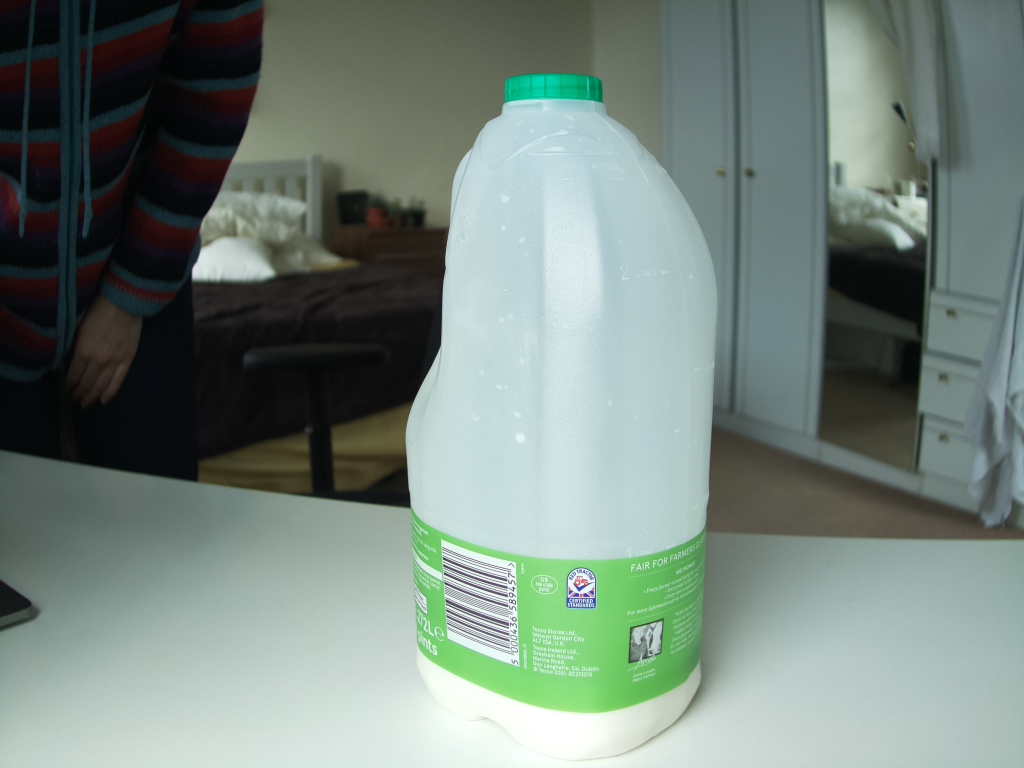milk: (394, 66, 736, 768)
